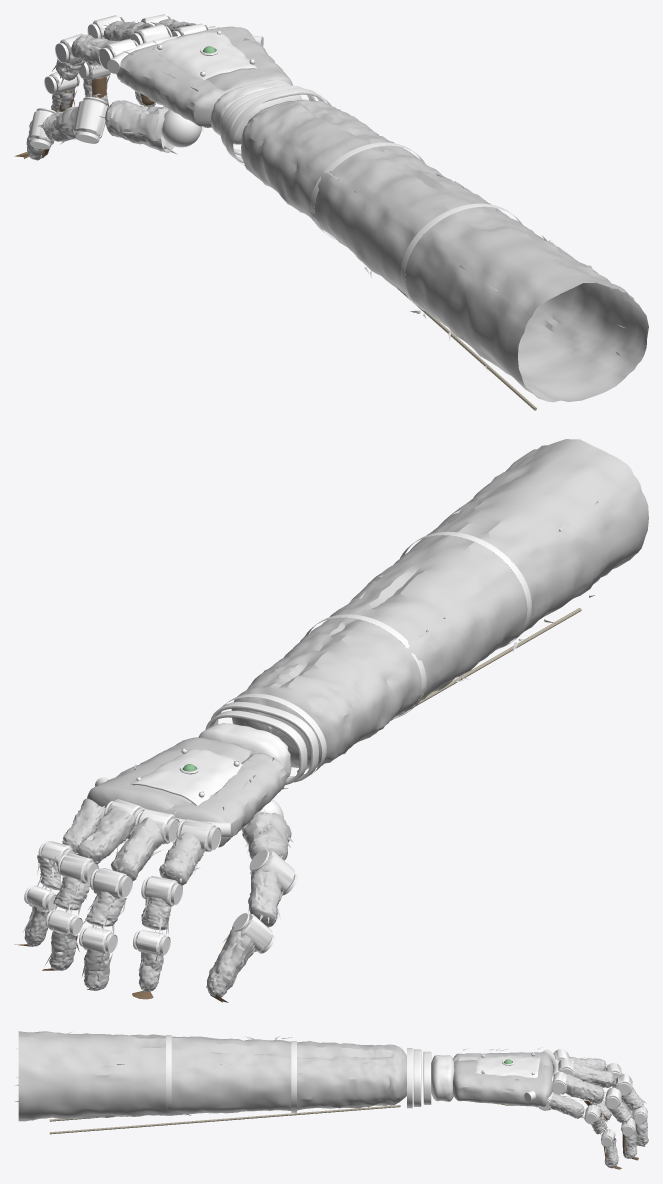
Rendered from wooden_hand.glb.
3 views of the same model, one above another, from view 1: azimuth 30°, elevation 25°; view 2: azimuth 150°, elevation 25°; view 3: azimuth 270°, elevation 25° (orthographic). The views are drawn at different scales.
Visible parts, largest first — view 1: Forearm, Palm, T_0, T_1, WristCore, F2_0, F3_0, T_2, F2_2, F3_2, F2_1, WristRing2 (+1 smaller); view 2: Forearm, Palm, T_2, F3_0, T_1, F2_0, F4_0, F3_1, WristCore, F3_2, F4_1, T_0 (+8 smaller); view 3: Forearm, Palm, F4_0, WristCore, F3_0, F5_0, F3_1, F4_1, F4_2, F5_2, WristRing2, F3_2 (+3 smaller).
Part boxes in pixels (x1=…): Forearm: x1=228, y1=89, x2=648, y2=410; Palm: x1=107, y1=26, x2=292, y2=147; T_0: x1=99, y1=100, x2=177, y2=154; T_1: x1=38, y1=97, x2=108, y2=144; WristCore: x1=210, y1=80, x2=302, y2=144; F2_0: x1=67, y1=34, x2=138, y2=69; F3_0: x1=102, y1=20, x2=172, y2=44; T_2: x1=14, y1=108, x2=56, y2=160; F2_2: x1=44, y1=72, x2=79, y2=112; F3_2: x1=78, y1=62, x2=110, y2=107; F2_1: x1=52, y1=33, x2=84, y2=85; WristRing2: x1=224, y1=88, x2=325, y2=163; Forearm: x1=217, y1=439, x2=648, y2=775; Palm: x1=87, y1=737, x2=287, y2=847; T_2: x1=206, y1=913, x2=274, y2=1002; F3_0: x1=111, y1=809, x2=179, y2=881; T_1: x1=247, y1=849, x2=297, y2=927; F2_0: x1=159, y1=819, x2=221, y2=885; F4_0: x1=75, y1=799, x2=144, y2=863; F3_1: x1=80, y1=868, x2=132, y2=934; WristCore: x1=199, y1=723, x2=291, y2=777; F3_2: x1=79, y1=926, x2=117, y2=990; F4_1: x1=49, y1=853, x2=98, y2=917; T_0: x1=241, y1=809, x2=293, y2=860; Forearm: x1=14, y1=1031, x2=412, y2=1134; Palm: x1=453, y1=1047, x2=559, y2=1107; F4_0: x1=552, y1=1072, x2=606, y2=1103; WristCore: x1=431, y1=1055, x2=454, y2=1101; F3_0: x1=558, y1=1058, x2=618, y2=1088; F5_0: x1=538, y1=1092, x2=585, y2=1118; F3_1: x1=615, y1=1073, x2=646, y2=1110; F4_1: x1=605, y1=1087, x2=634, y2=1124; F4_2: x1=621, y1=1118, x2=638, y2=1160; F5_2: x1=601, y1=1129, x2=621, y2=1169; WristRing2: x1=413, y1=1049, x2=421, y2=1106; F3_2: x1=632, y1=1105, x2=648, y2=1146.
Bounding box in the file's own units: 0.1274 × 0.103 × 0.507.
